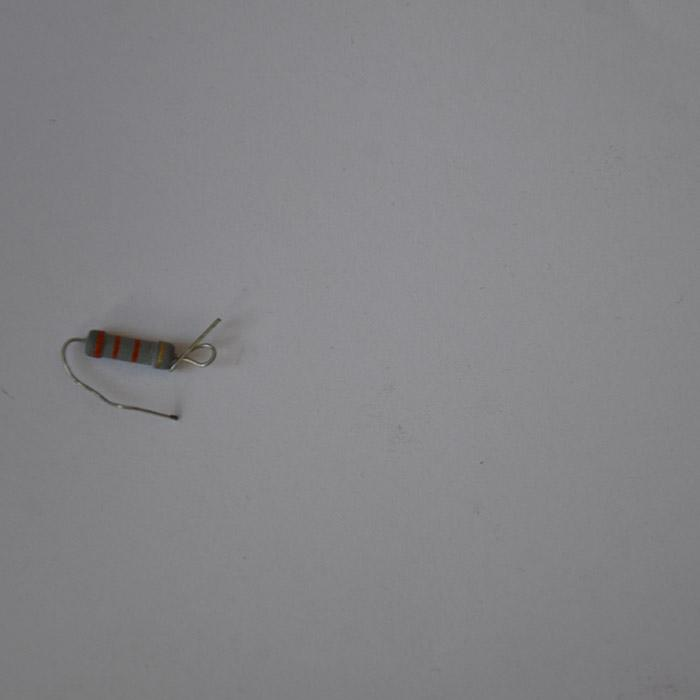resistor: (83, 329, 178, 369)
